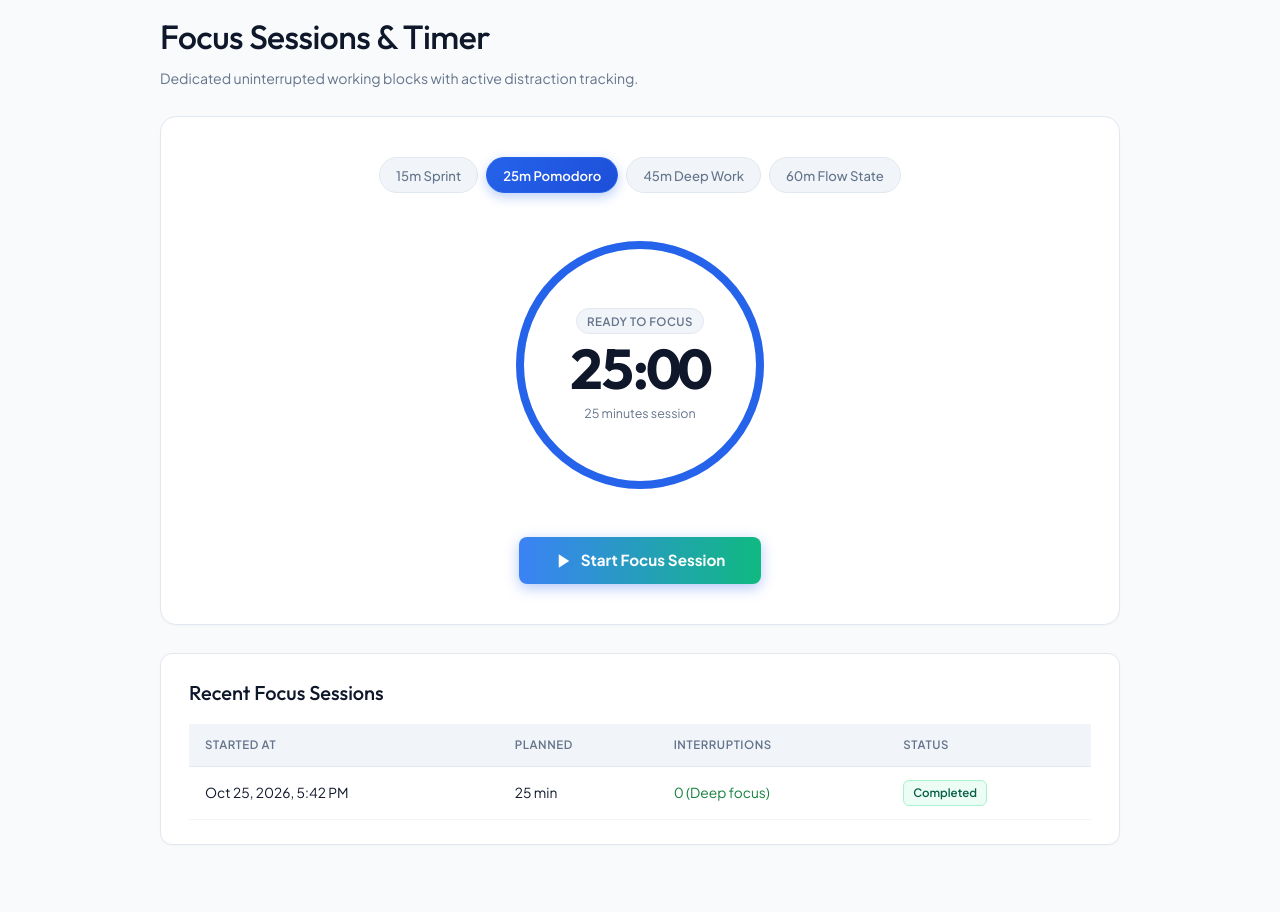
Test: Focus Sessions Feature with Timer Clock › allows selecting different duration presets
Step 1. Click the button "15m Sprint" → x=429, y=175, box [379, 157, 478, 194]
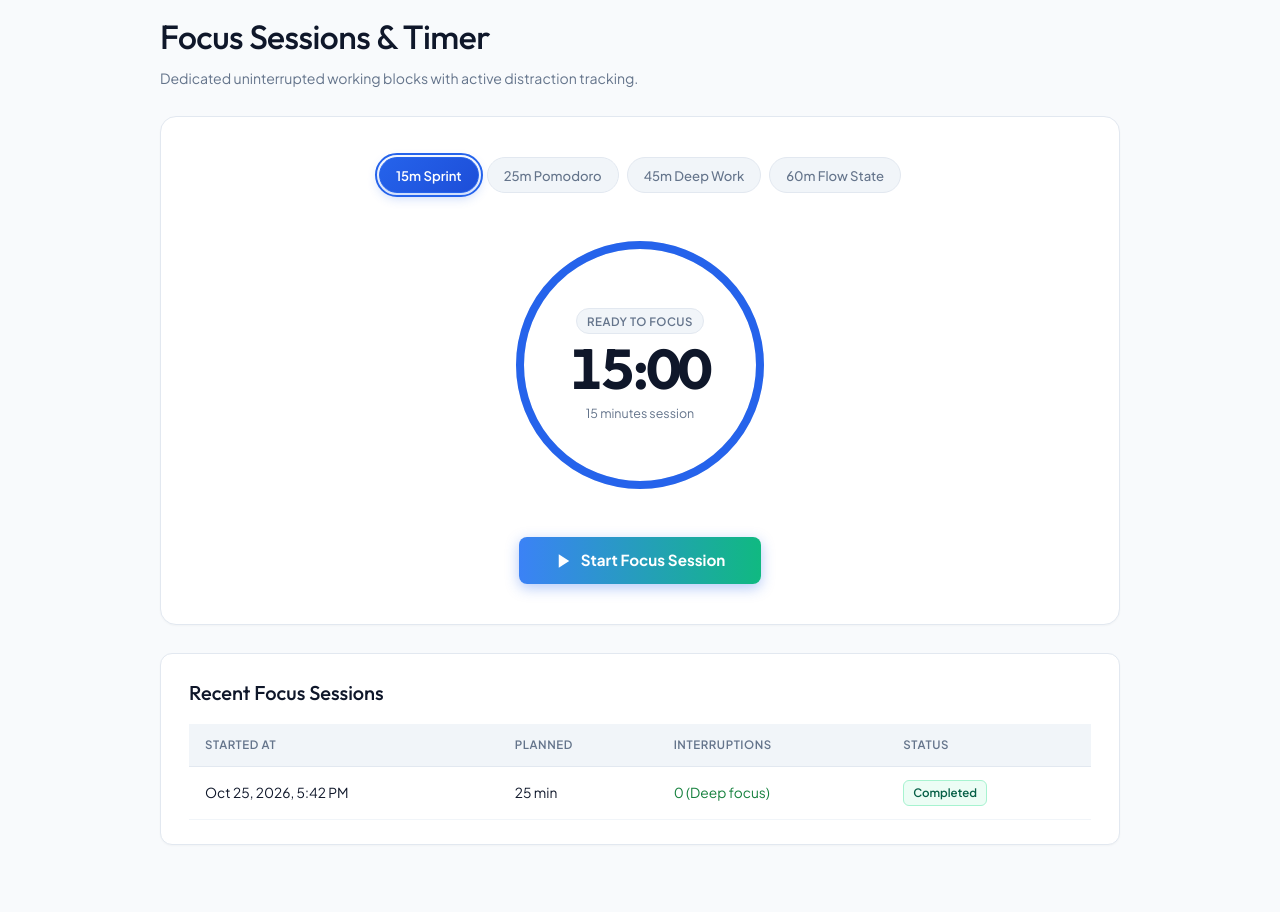
Now the text "15:00" is shown, box [570, 340, 710, 396]
